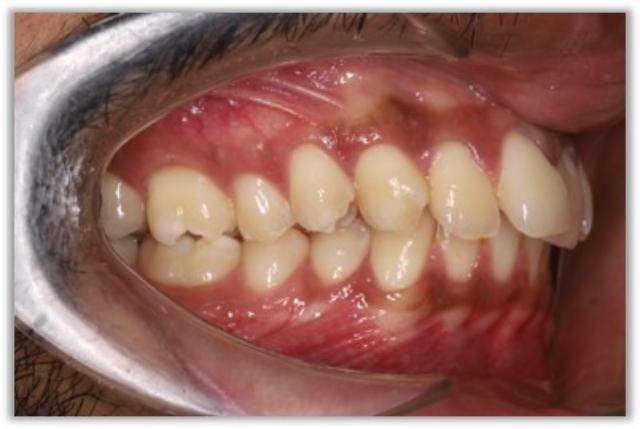canine class II 1/2: (310, 133, 438, 300)
molar class II 1/2: (134, 163, 238, 291)
